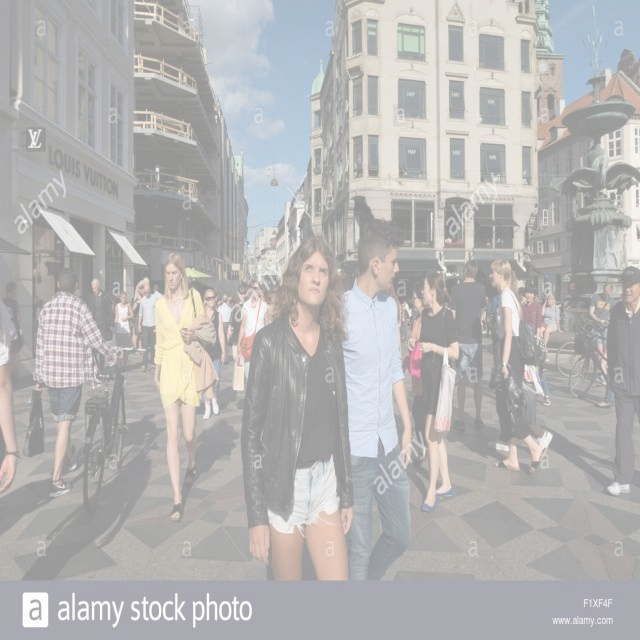pessoa: (239, 236, 357, 582), (338, 218, 414, 582), (34, 264, 126, 500), (153, 250, 209, 524), (482, 254, 547, 476), (406, 272, 462, 512), (488, 270, 554, 452), (606, 264, 640, 499), (448, 258, 488, 432), (401, 281, 432, 468), (237, 280, 271, 387), (522, 287, 552, 408), (0, 300, 18, 496), (586, 280, 619, 386), (202, 288, 226, 421), (85, 277, 115, 376), (137, 281, 159, 374), (2, 281, 22, 383), (538, 293, 564, 360), (114, 290, 134, 372), (226, 284, 246, 362), (216, 292, 233, 365), (131, 286, 145, 356), (134, 276, 150, 312), (396, 302, 411, 340), (510, 272, 526, 304), (481, 296, 493, 332), (32, 294, 42, 336), (152, 284, 164, 300), (258, 284, 268, 300), (226, 296, 234, 308), (216, 294, 221, 306), (534, 294, 538, 300)
